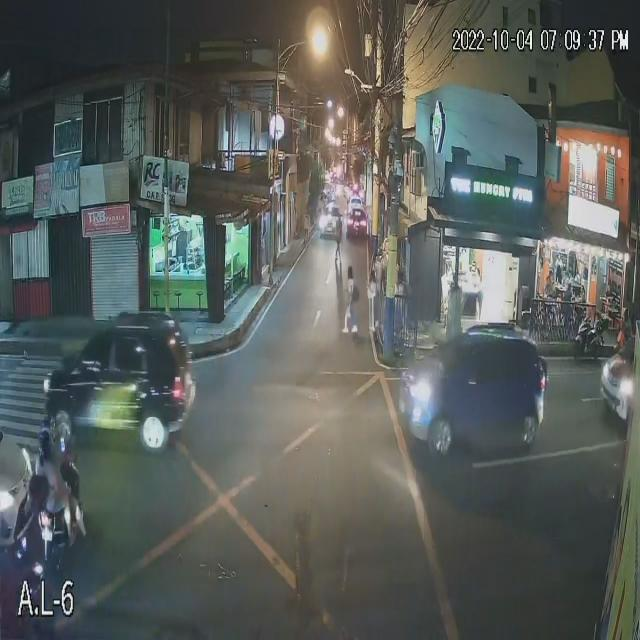0 motorcycle: (36, 493, 93, 570), (566, 314, 610, 358)
1 rider: (34, 454, 60, 513), (52, 446, 73, 492)
2 helmet: (51, 409, 71, 446), (34, 428, 56, 460)
